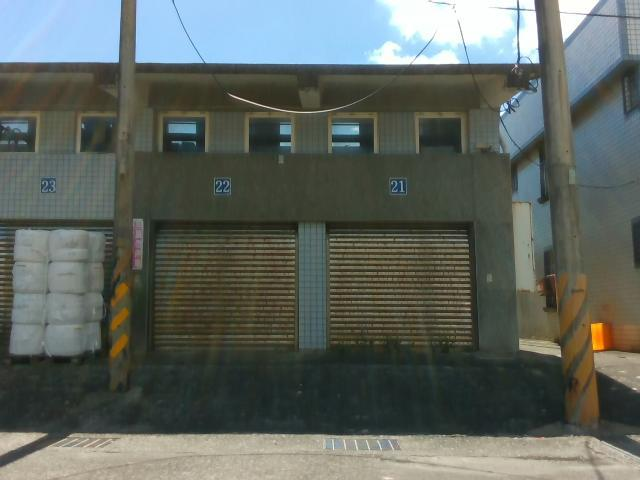pollute: (9, 225, 103, 359), (590, 317, 618, 354)
